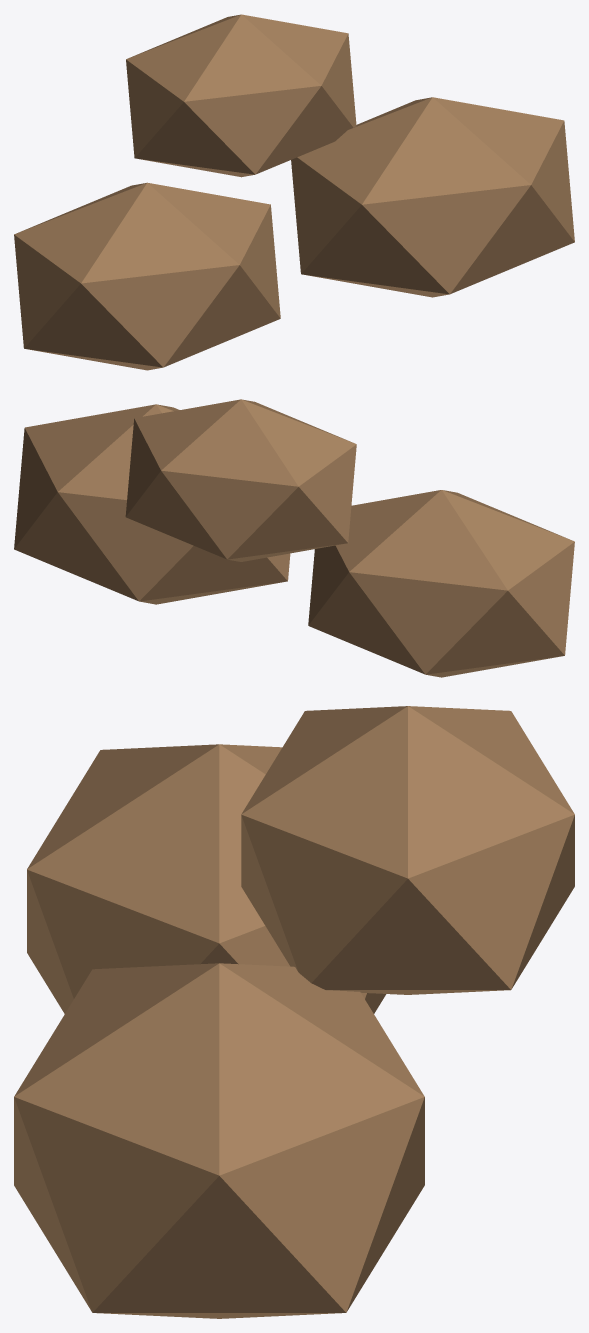
Rendered from CC_Manure.fbx.
3 views of the same model, one above another, from view 1: azimuth 30°, elevation 25°; view 2: azimuth 150°, elevation 25°; view 3: azimuth 270°, elevation 25° (orthographic). The views are drawn at different scales.
Parts seen in each view (by area): view 1: Dropping.001, Dropping, Dropping.002; view 2: Dropping, Dropping.002, Dropping.001; view 3: Dropping.001, Dropping.002, Dropping.
Boxes of the visible parts, bbox=[...] form: Dropping.001: bbox=[291, 97, 574, 297]; Dropping: bbox=[14, 182, 280, 370]; Dropping.002: bbox=[126, 14, 356, 177]; Dropping: bbox=[308, 490, 574, 677]; Dropping.002: bbox=[125, 399, 356, 561]; Dropping.001: bbox=[14, 404, 290, 604]; Dropping.001: bbox=[14, 963, 424, 1318]; Dropping.002: bbox=[241, 706, 574, 994]; Dropping: bbox=[27, 744, 386, 1013].
Size of the model in its own units: 0.5873 by 0.292 by 0.2973.
